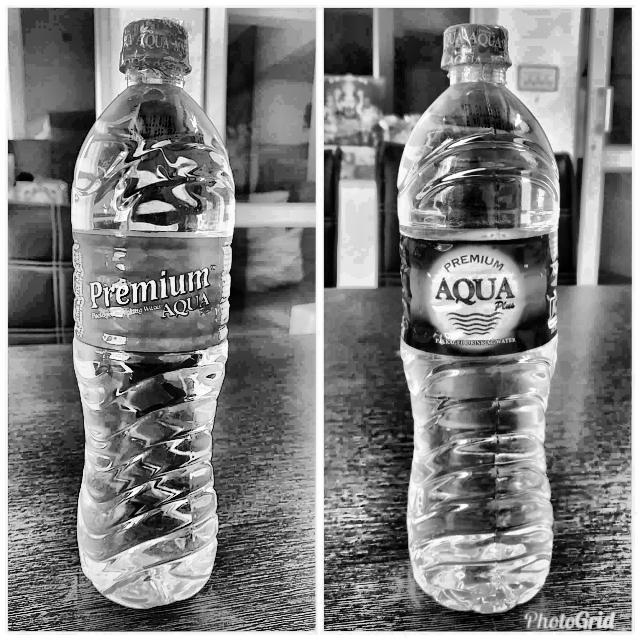waterbottle: (377, 15, 570, 624), (57, 11, 247, 622)
